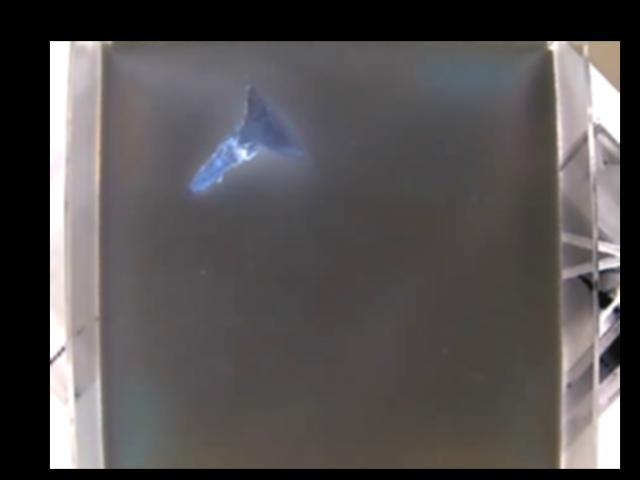Mooli: (187, 82, 307, 197)
